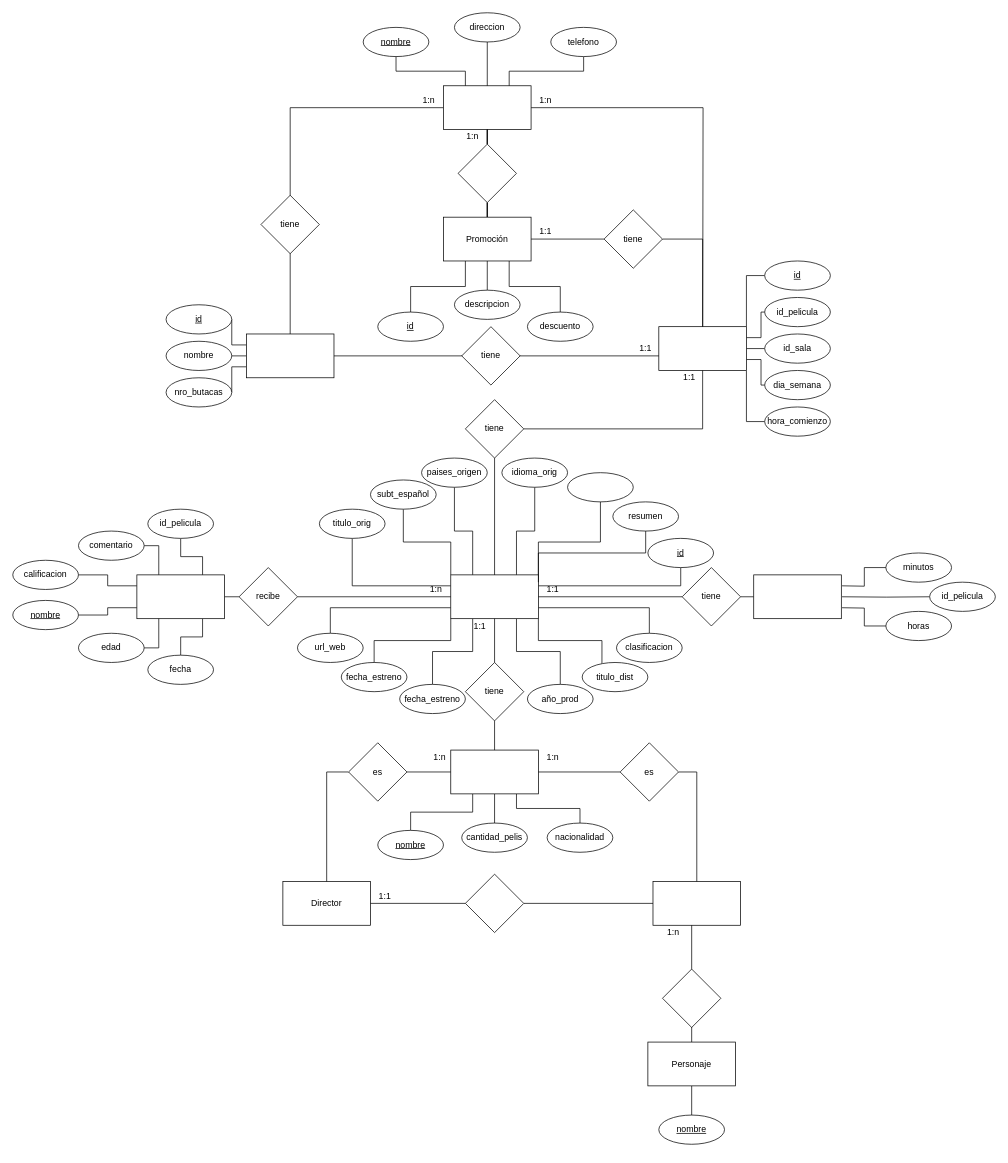
The diagram is 1008 pixels wide and 1163 high, and some of its shapes have lost their labels. Here are the shapes that lost their labels. From the top down, the centre of each, then its label:
point (487, 107): Cine
point (486, 173): puede tener
point (290, 355): Sala
point (702, 348): Función
point (600, 487): genero
point (180, 596): Opinión
point (494, 596): Película
point (797, 596): Duracion
point (494, 771): Reparto
point (494, 903): puede ser
point (696, 903): Actor
point (691, 997): representa
